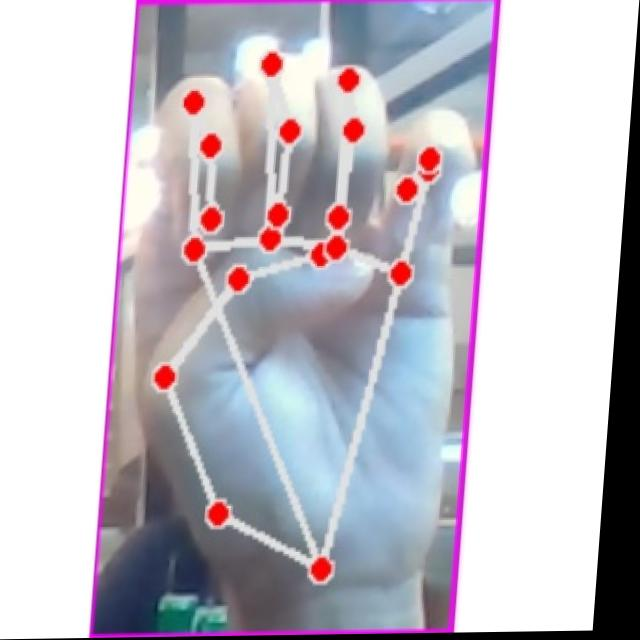E: (111, 37, 487, 600)
